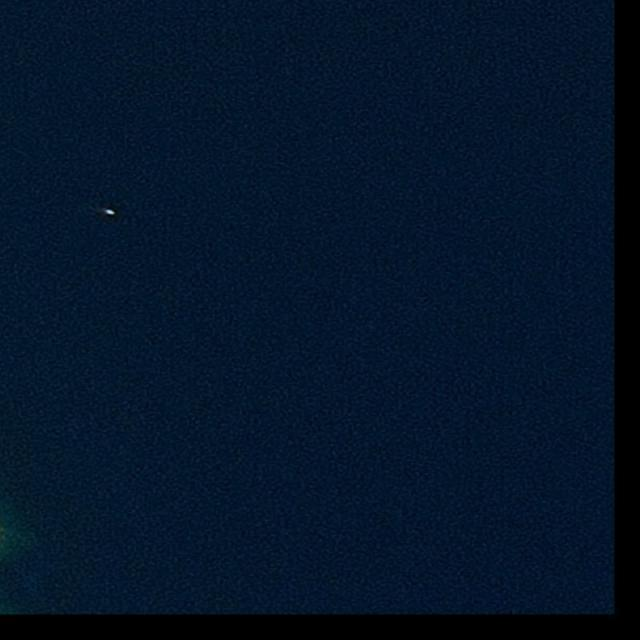ship: (106, 210, 114, 214)
